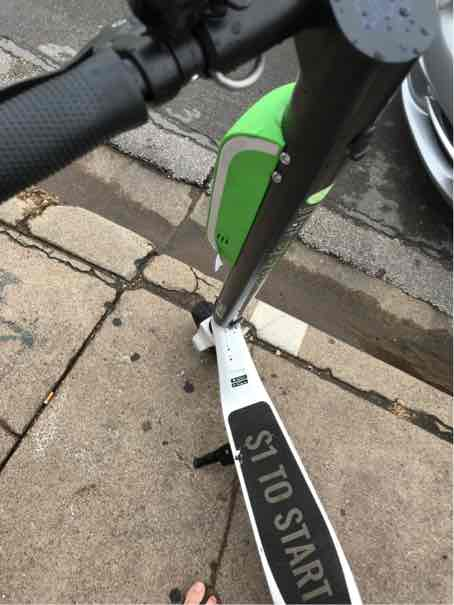scooter: (123, 17, 443, 605)
